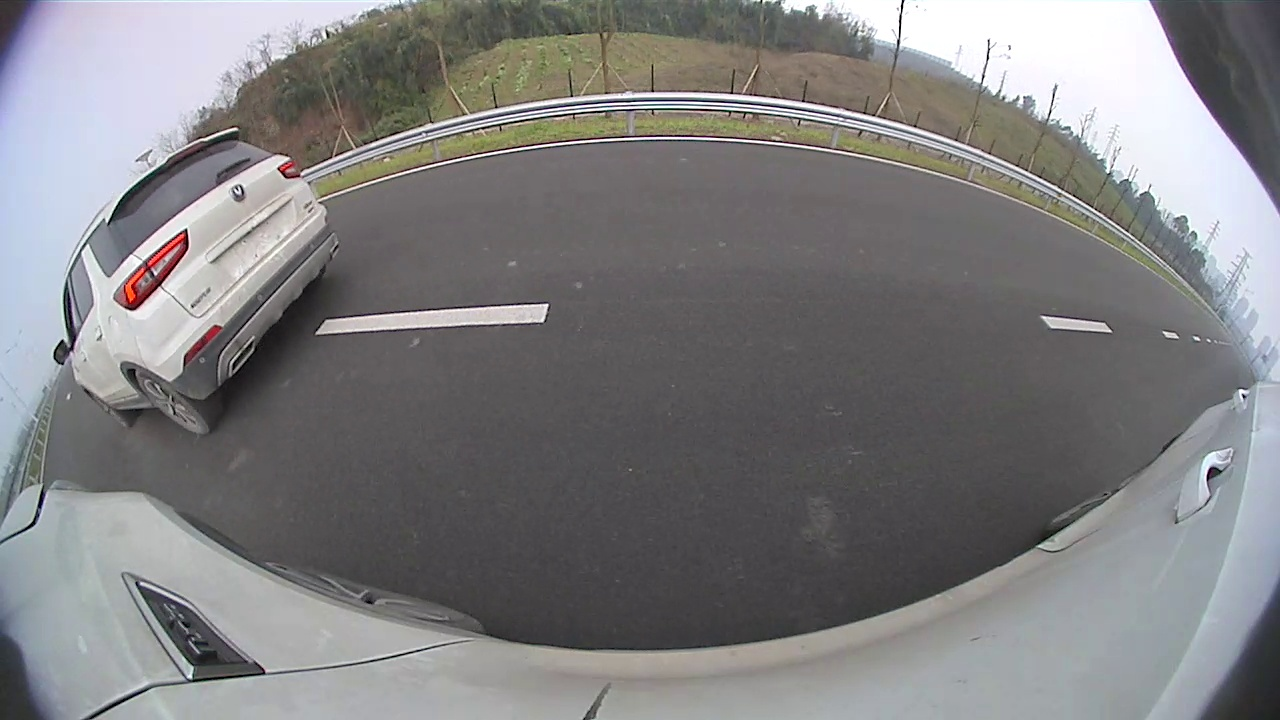car: (53, 127, 339, 436)
rear: (125, 367, 214, 445)
